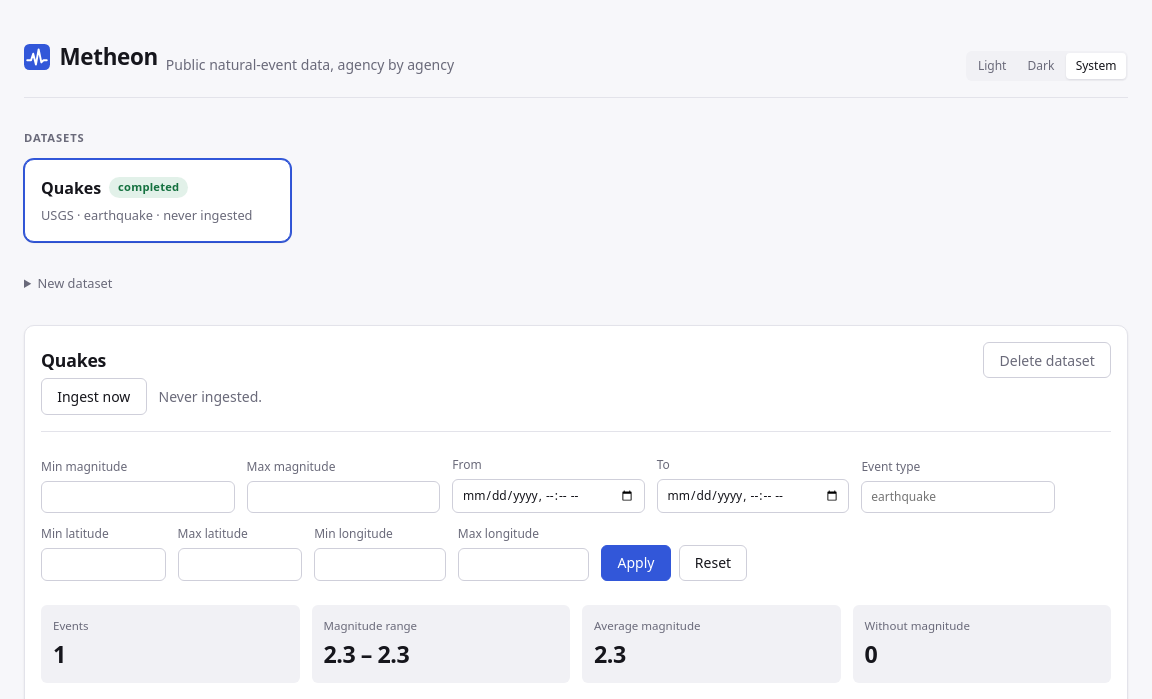
Scenario: deleting a dataset › shows the API's reason when it refuses
Expected: the heading "Quakes" is shown, 41,347 -> 106,373
Click the button "Delete dataset". click: (1047, 360)
box: 983,342 -> 1111,378
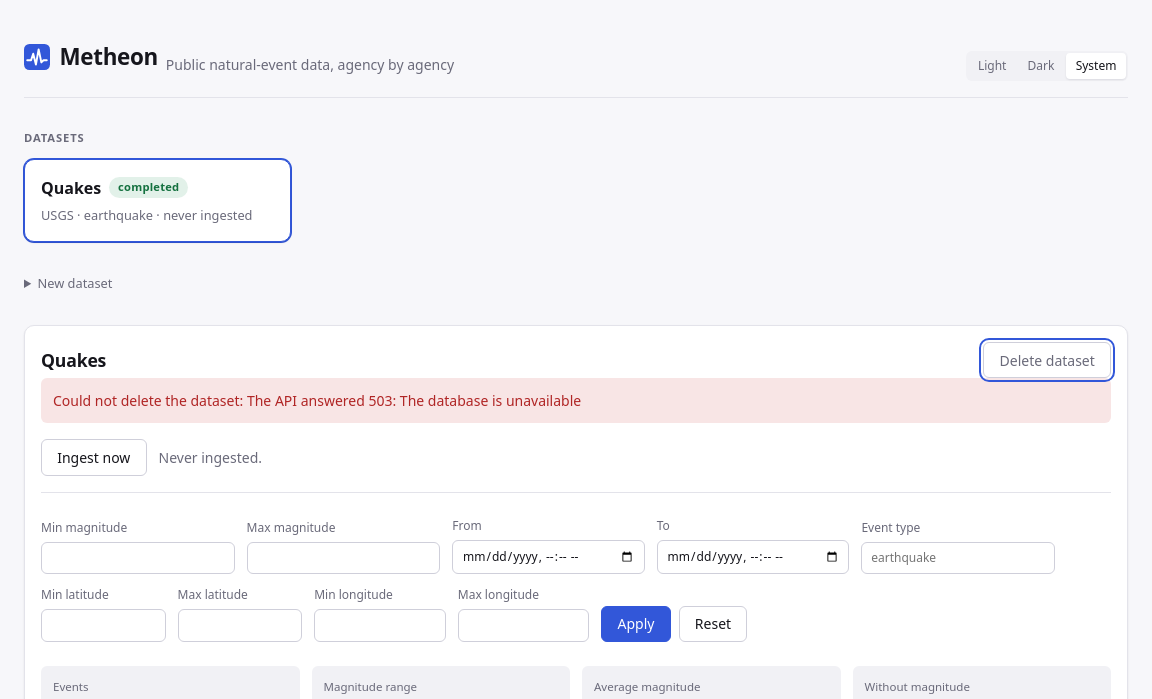
Expected: the heading "Quakes" is shown, 41,347 -> 106,373
Expected: the message reads "Could not delete the dataset: The API answered 503: The database is unavailable", 41,378 -> 1111,423
